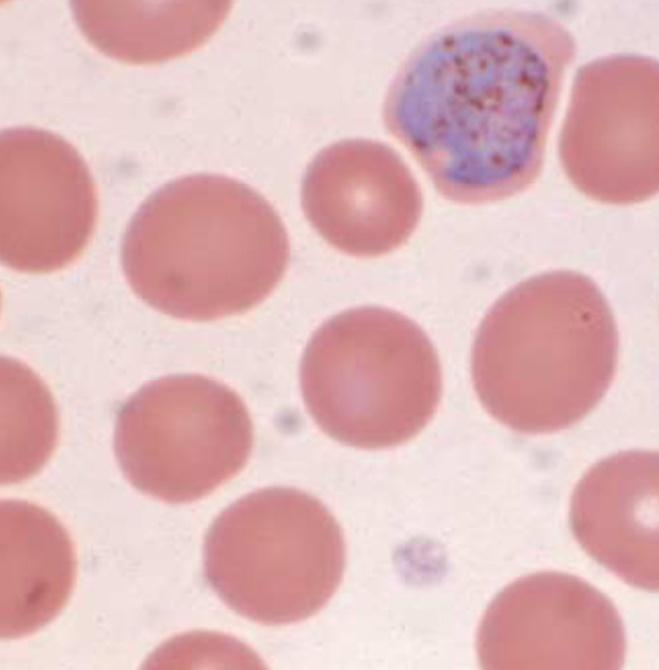Infected: (381, 9, 565, 209)
Uninfected: (470, 270, 621, 436), (124, 175, 294, 320), (201, 482, 347, 630), (296, 309, 445, 450), (111, 372, 249, 505), (299, 136, 421, 261), (561, 56, 659, 199)
